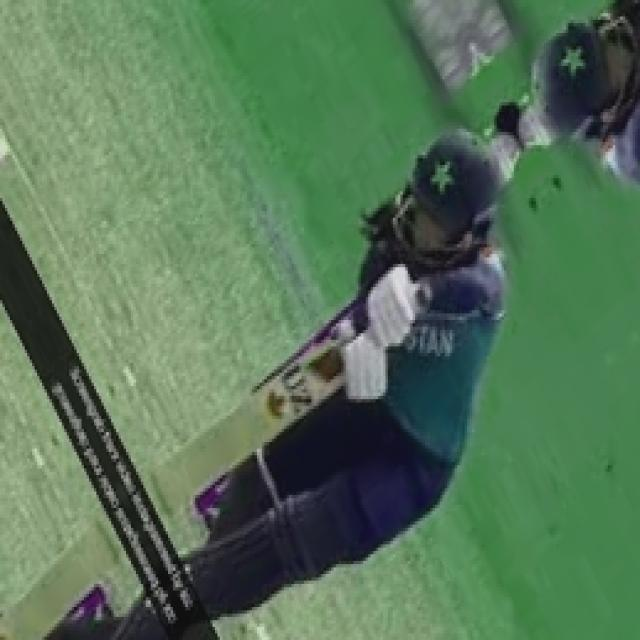toe: (147, 452, 184, 537)
